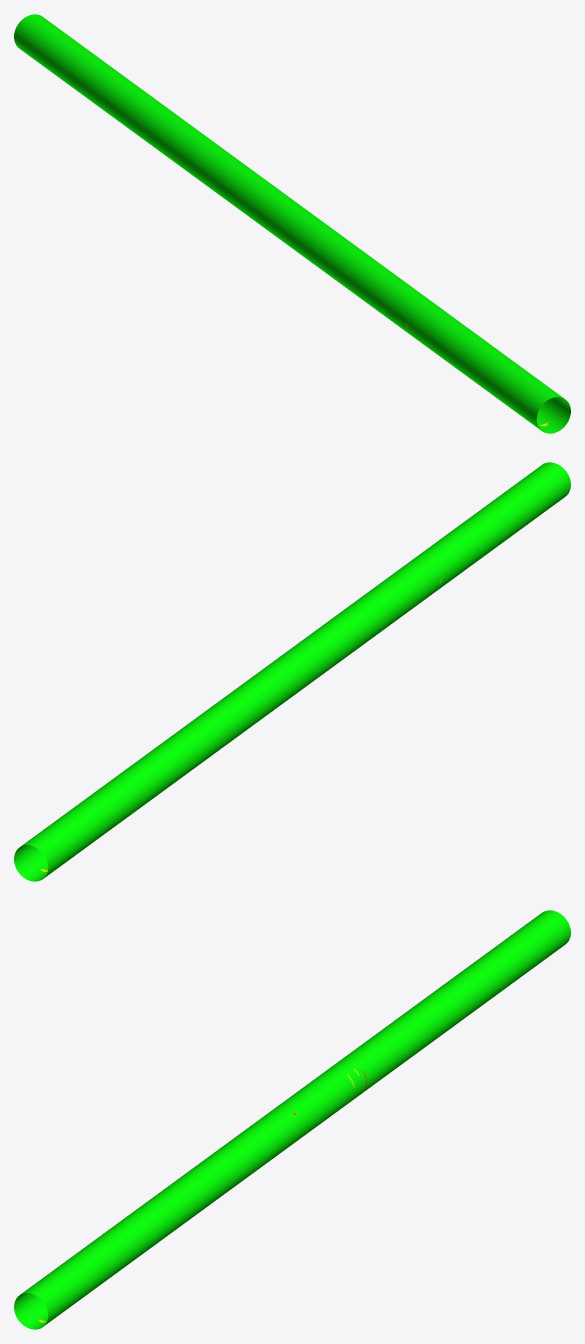
File: tube_3_old.obj
3 renders of one model, top to bottom at view 1: azimuth 30°, elevation 25°; view 2: azimuth 150°, elevation 25°; view 3: azimuth 330°, elevation 25°, orthographic.
Size of the model in its own units: 2 by 2 by 53.
Materials: 1 (1 with a texture image).
